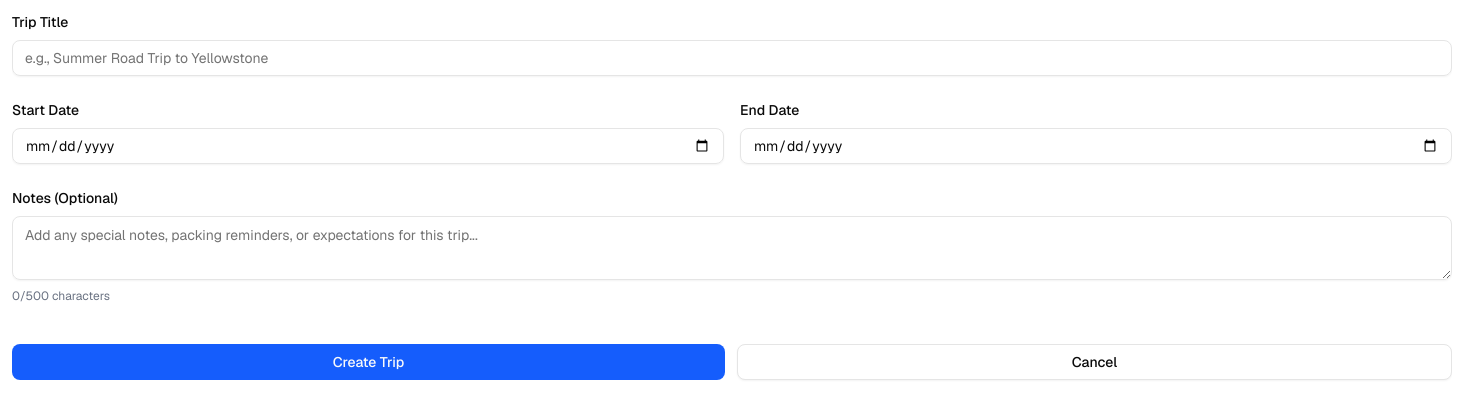
Test case: TripForm Component › Error Message Display › should update character counter in real-time
This screenshot has width=1464, height=397.
Type "Hello" into the text box labelled "Notes (Optional)". click: (732, 248)
box: [12, 216, 1452, 280]
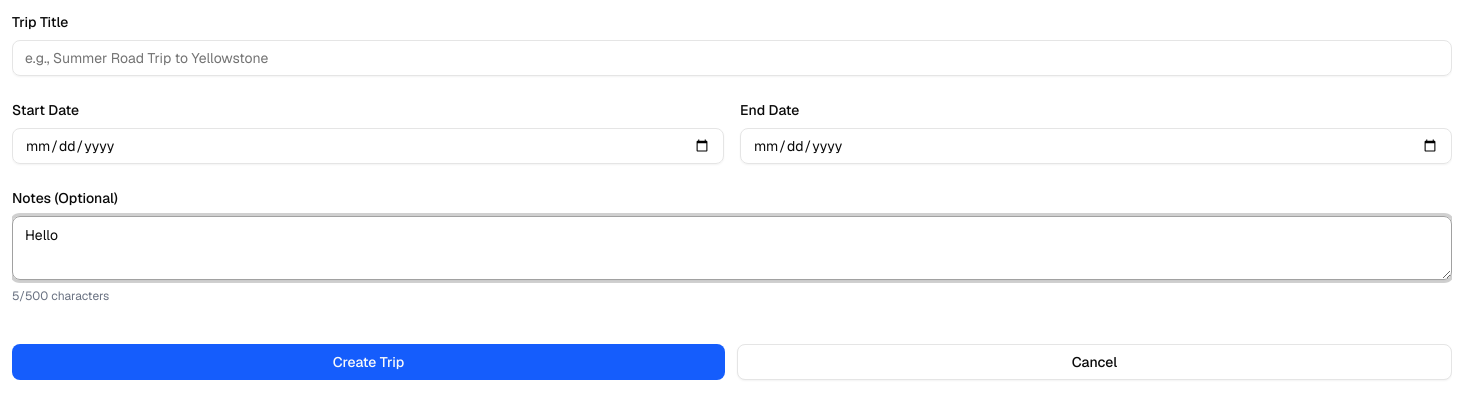
Check: the text "5/500 characters" is shown, box [12, 288, 109, 304]
Type " World" into the text box labelled "Notes (Optional)". click: (732, 248)
box: [12, 216, 1452, 280]
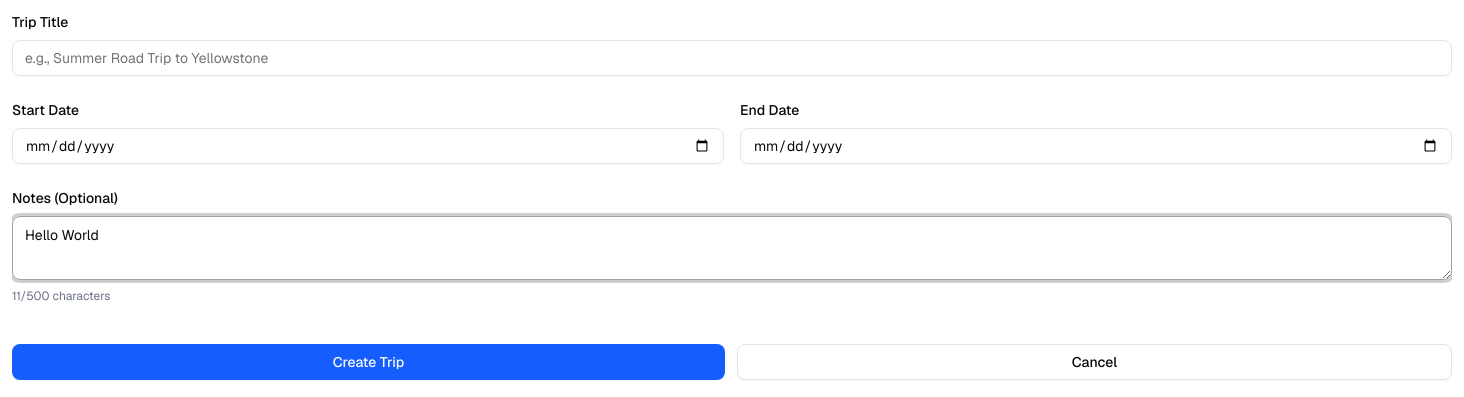
Check: the text "11/500 characters" is shown, box [12, 288, 110, 304]
Clear the text box labelled "Notes (Optional)". click: (732, 248)
box: [12, 216, 1452, 280]
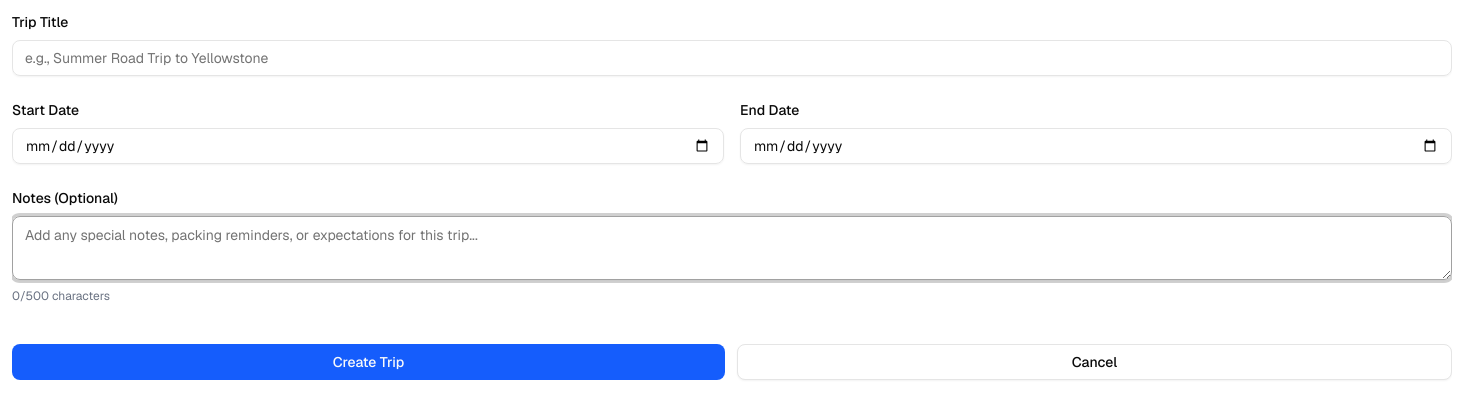
Check: the text "0/500 characters" is shown, box [12, 288, 110, 304]
